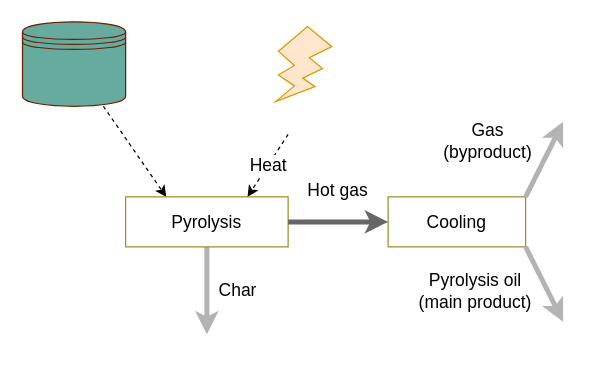
The diagram is 596 pixels wide and 369 high, and some of its shapes have lost their labels. Each missing label, with the box of its shape:
Alternative fuel: (21, 21, 126, 106)
Electricity or gas: (274, 25, 332, 102)
